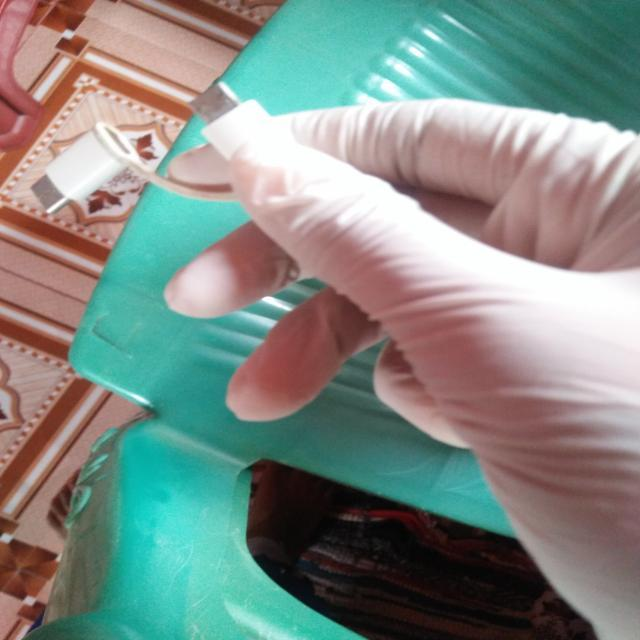glove_hand: (155, 71, 634, 632)
